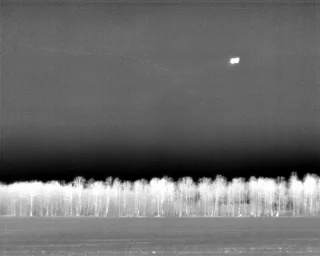DRONE: (226, 52, 244, 70)
